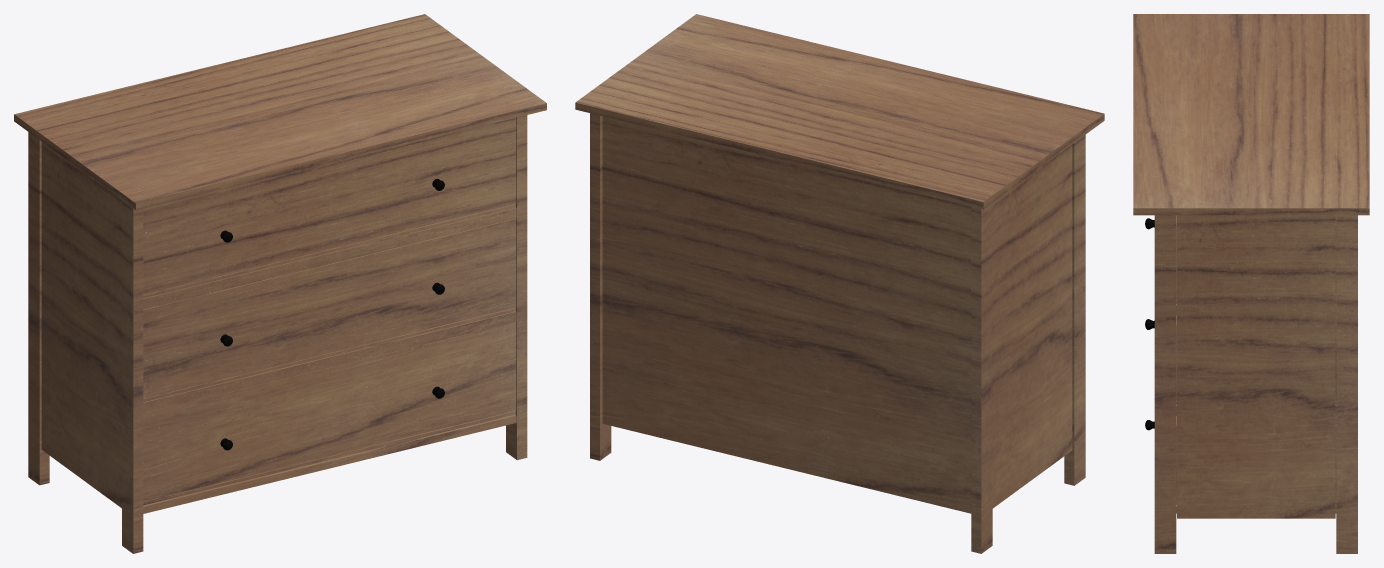
Rendered from IKEA-Hemnes_Chest_of_3_drawers-3D.FBX.
3 views of the same model, side by side, from view 1: azimuth 30°, elevation 25°; view 2: azimuth 150°, elevation 25°; view 3: azimuth 270°, elevation 25° (orthographic). The views are drawn at different scales.
Visible parts, largest first — view 1: Box08; view 2: Box08; view 3: Box08.
Part boxes in pixels (box(x1,y1,x2,y2)): Box08: box(14, 14, 546, 553); Box08: box(575, 14, 1104, 553); Box08: box(1133, 14, 1369, 553).
Bounding box in the file's own units: 1.16 × 0.5946 × 0.9715.
Materials: 2 (1 with a texture image).
